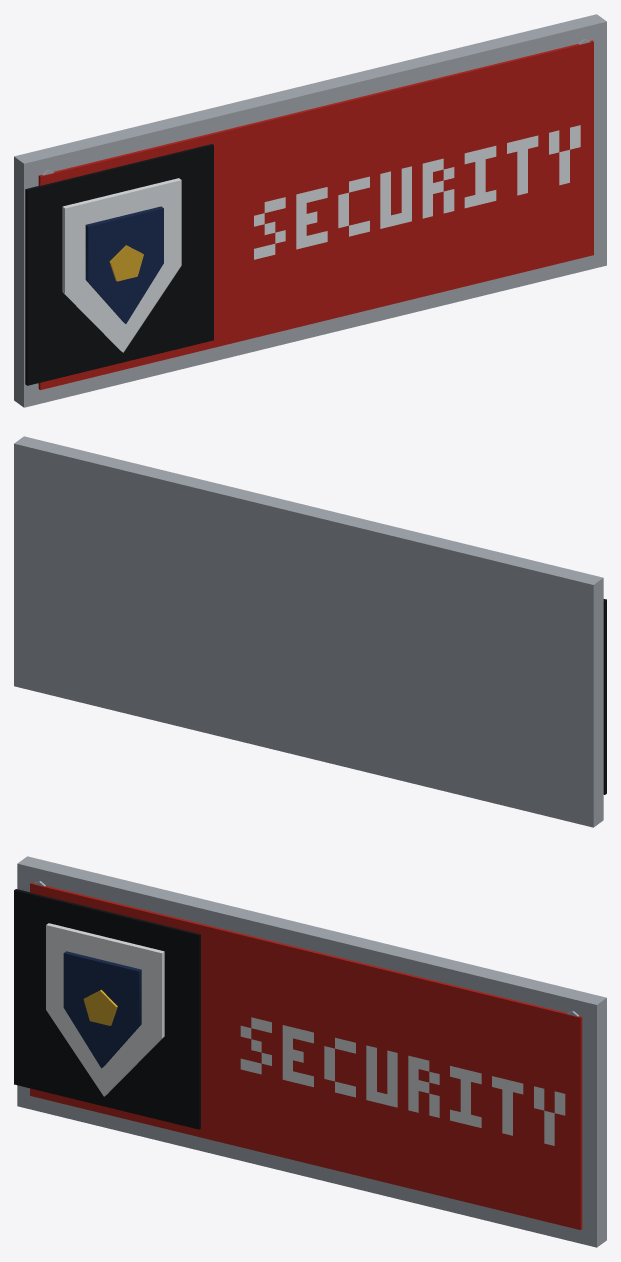
The model's file is sign_dept_security.glb.
The picture shows the model from 3 angles, top to bottom: view 1: azimuth 30°, elevation 25°; view 2: azimuth 150°, elevation 25°; view 3: azimuth 330°, elevation 25°; orthographic projection.
Parts seen in each view (by area): view 1: sign_dept_security; view 2: sign_dept_security; view 3: sign_dept_security.
Boxes of the visible parts, x1,y1,x2,y2 form: sign_dept_security: [14, 14, 606, 407]; sign_dept_security: [14, 436, 606, 827]; sign_dept_security: [14, 856, 606, 1247].
Size of the model in its own units: 1 by 0.4 by 0.06.
